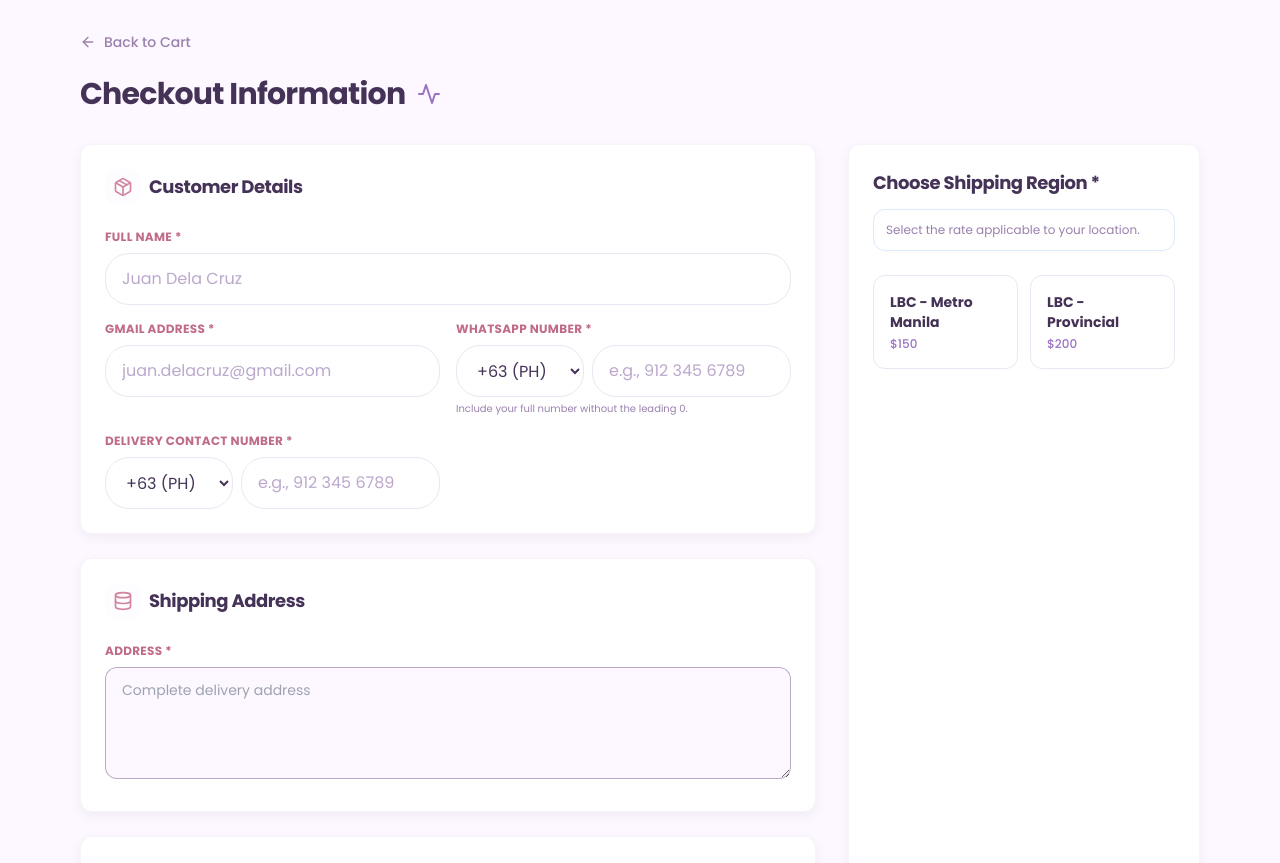
Test: Checkout component › form validation › shows error for non-Gmail email addresses
The width and height of the screenshot is (1280, 863).
Type "test@yahoo.com" into the field with placeholder "juan.delacruz@gmail.com" at x=272, y=371, box 105,345 -> 440,397
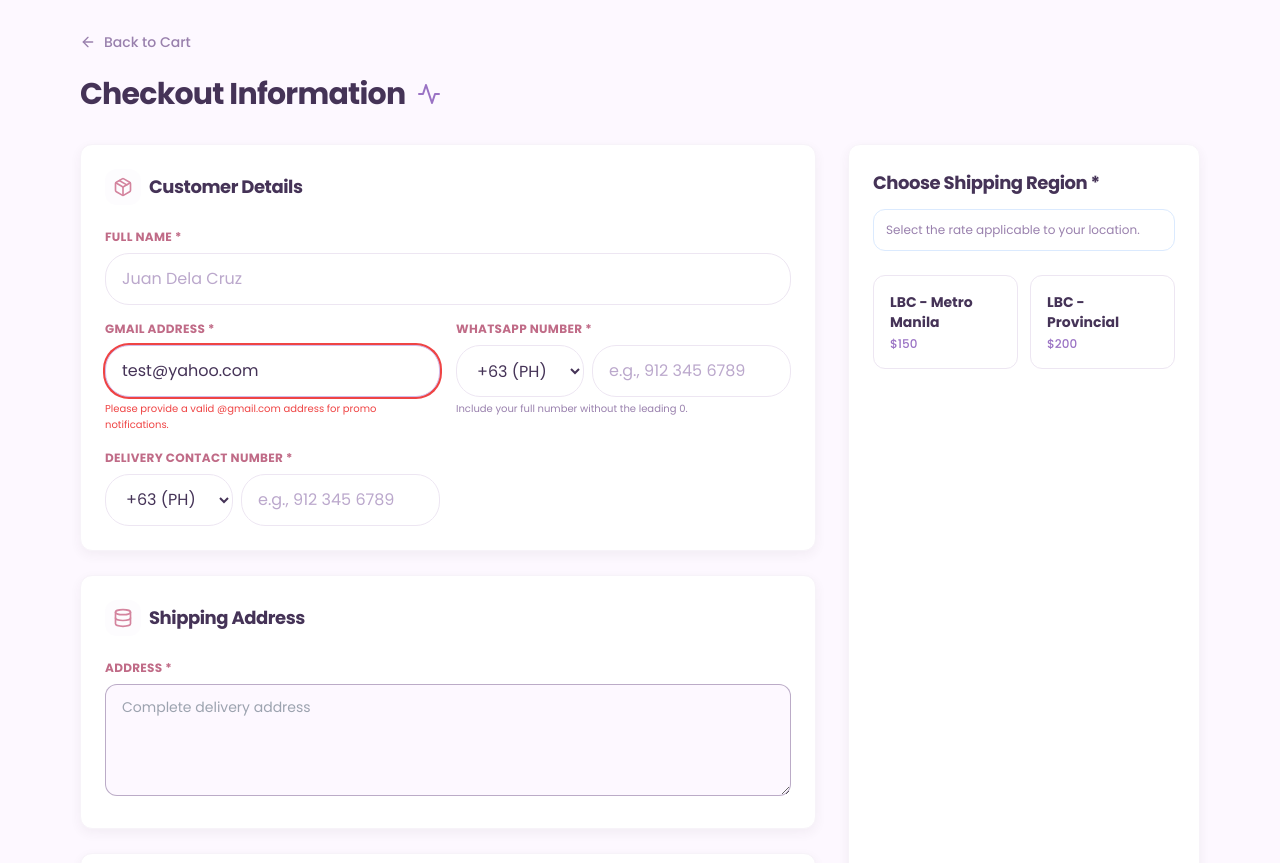
Check: the text "Please provide a valid @gmail.com address" is shown, box 105,401 -> 376,432
